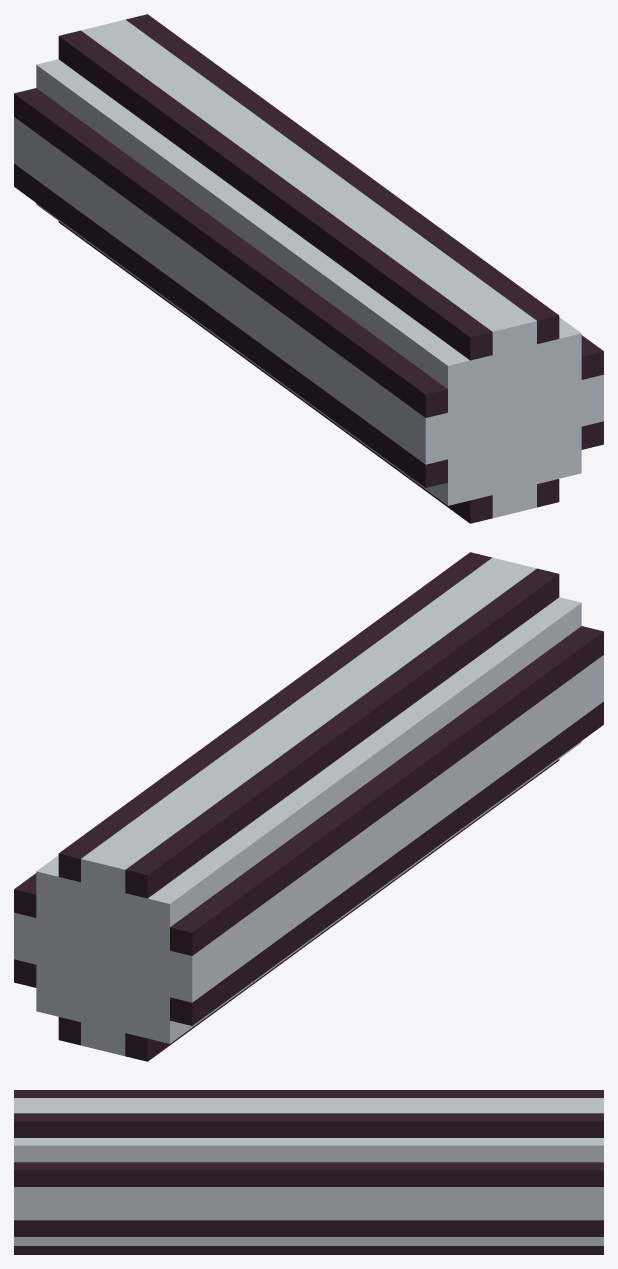
The model's file is Single Furniture Leg.fbx.
The picture shows the model from 3 angles, top to bottom: view 1: azimuth 30°, elevation 25°; view 2: azimuth 150°, elevation 25°; view 3: azimuth 270°, elevation 25°; orthographic projection. The views are drawn at different scales.
Parts seen in each view (by area): view 1: generated; view 2: generated; view 3: generated.
Part boxes in pixels (<box>): generated: <box>14,14,603,523</box>; generated: <box>14,552,603,1061</box>; generated: <box>14,1090,603,1254</box>.
Bounding box in the file's own units: 320 × 320 × 1280.
